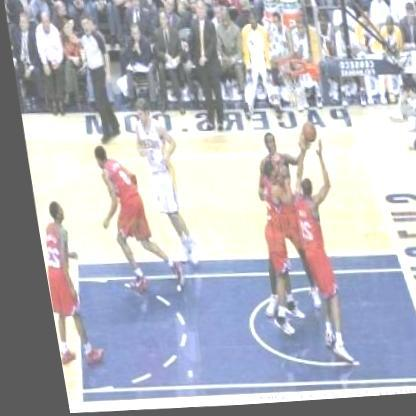basketball: (288, 117, 315, 149)
